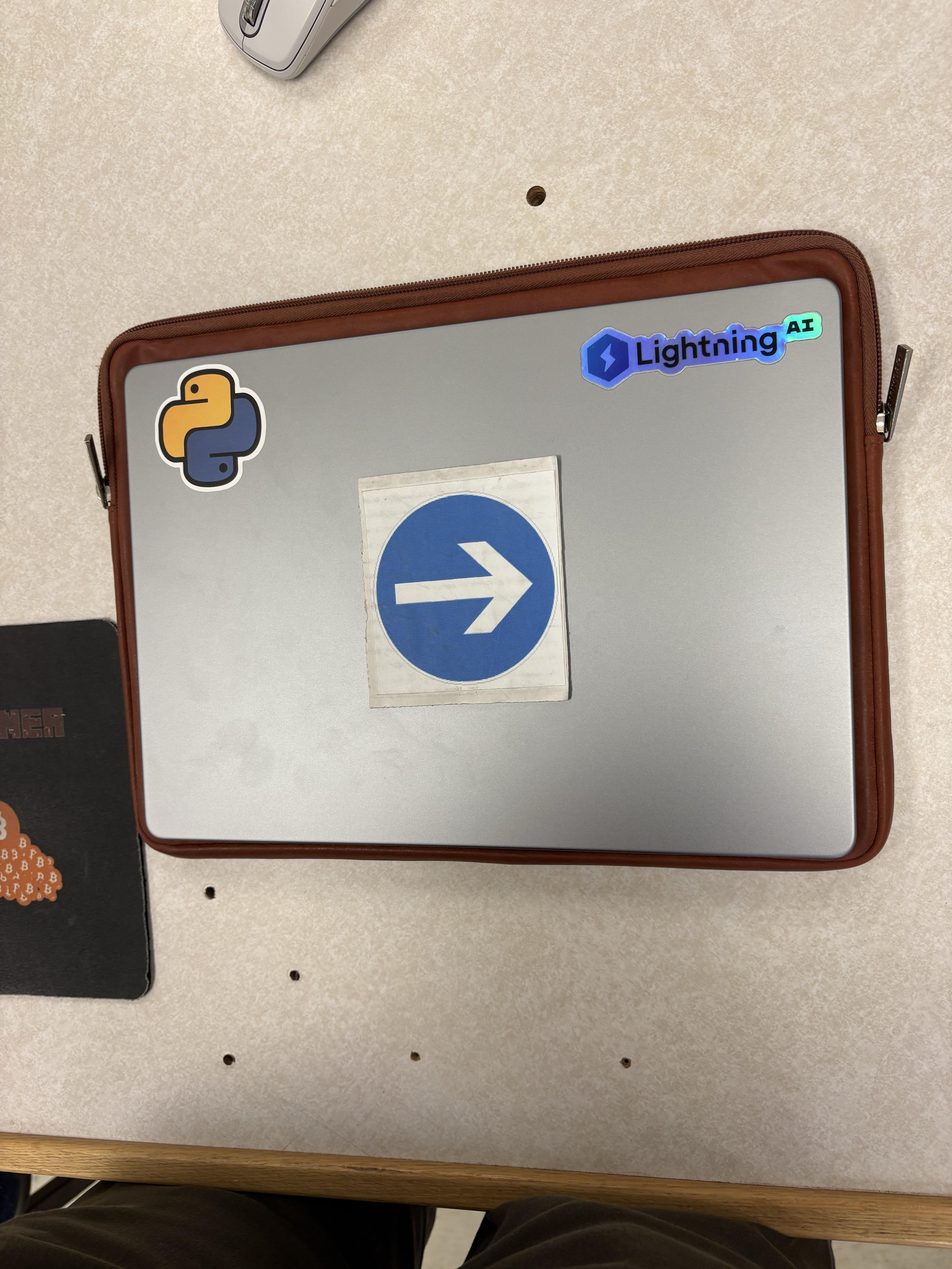Proceed Right: (274, 604, 433, 956)
